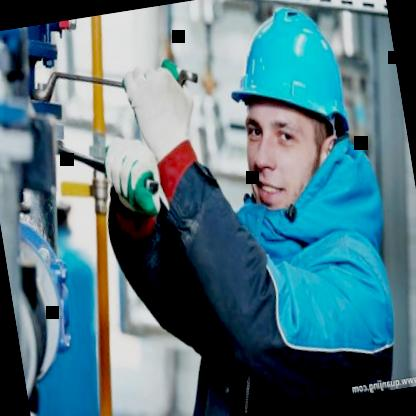helmet: (204, 0, 374, 224)
